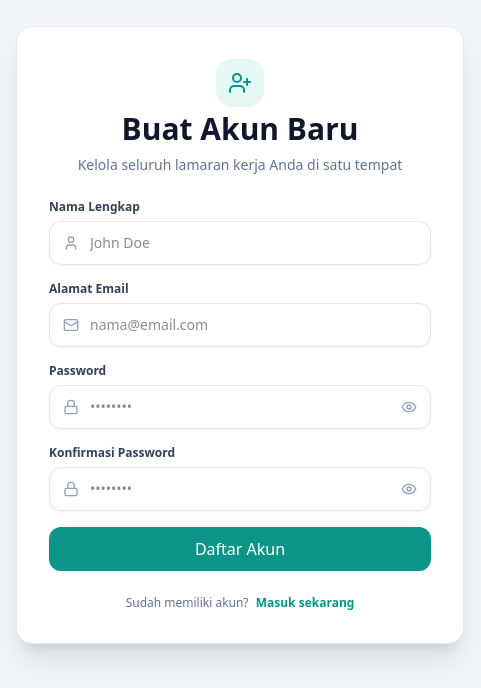
Test: RegisterView.vue › validates password mismatch on register submit
Type "Jane Doe" into the field with placeholder "John Doe".
click(240, 243); type("Jane Doe")  # box [49,221,431,265]
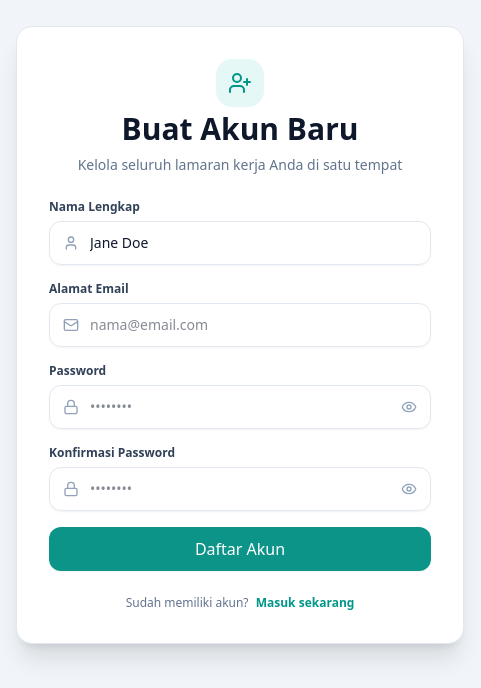
Type "jane@example.com" into the field with placeholder "nama@email.com".
click(240, 325); type("jane@example.com")  # box [49,303,431,347]
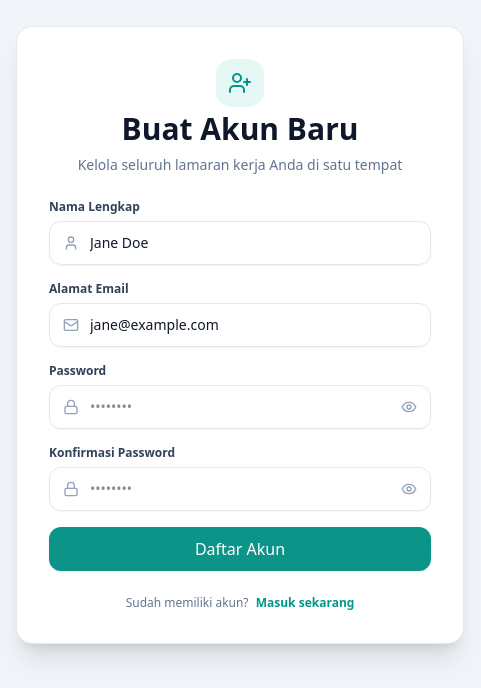
Type "password123" into the 1st password field with placeholder "••••••••".
click(240, 407); type("password123")  # box [49,385,431,429]
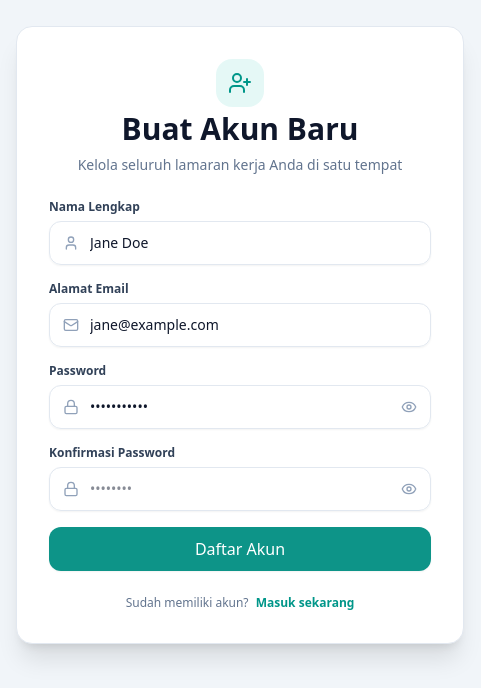
Type "differentpass" into the password field with placeholder "••••••••".
click(240, 489); type("differentpass")  # box [49,467,431,511]
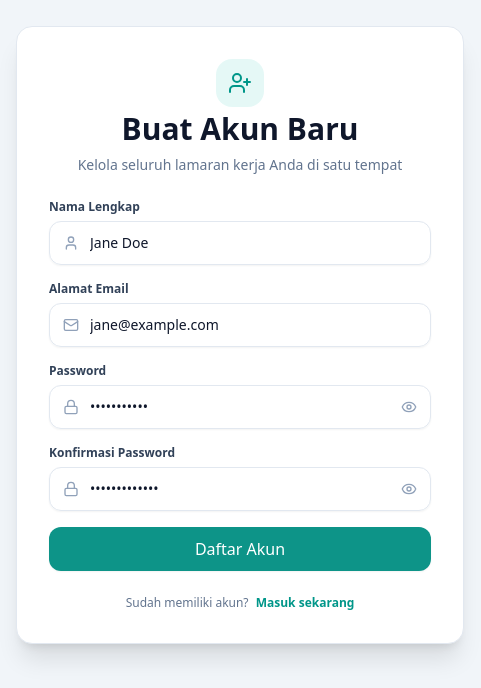
Submit the form, box [49,199,431,571]
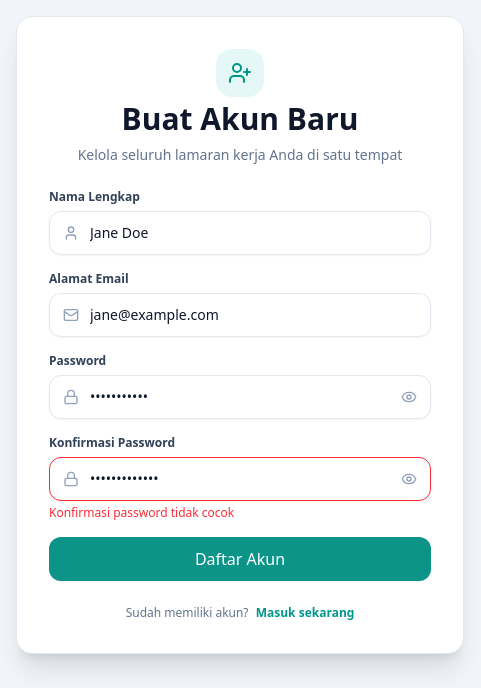
expect the text "Konfirmasi password tidak cocok" is shown: met, box [49,504,234,521]
